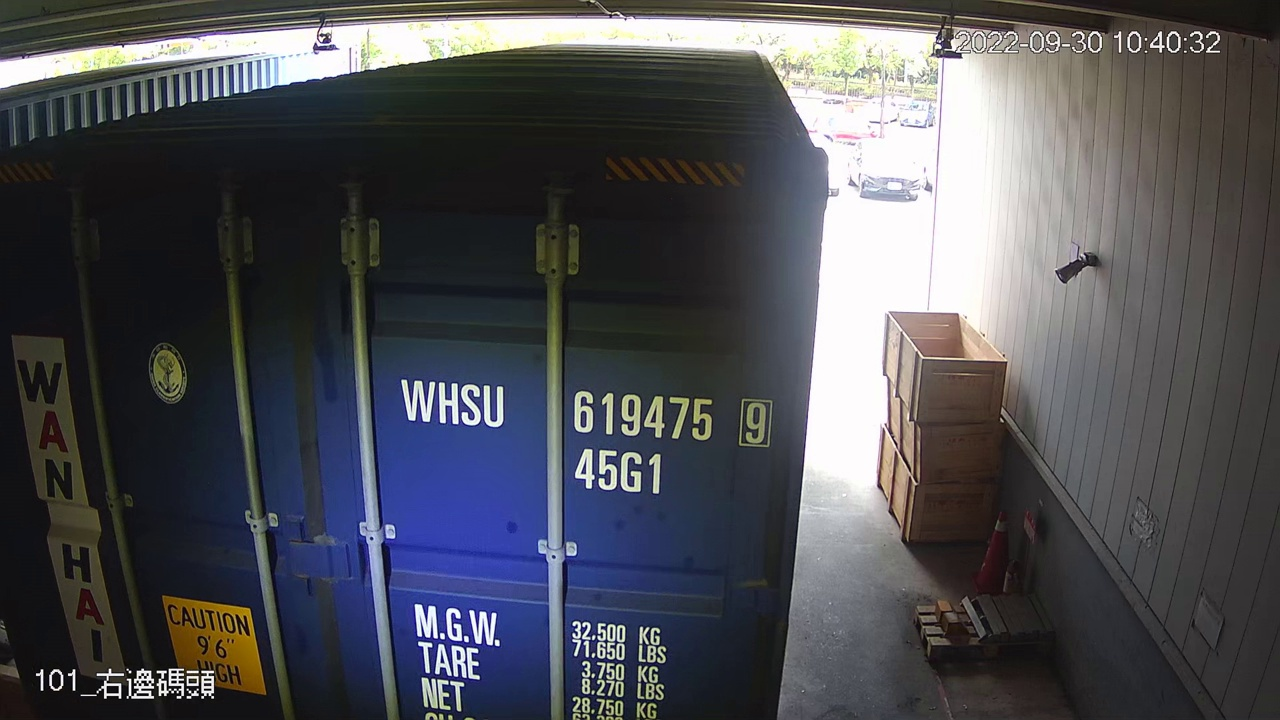container: (389, 366, 784, 497)
